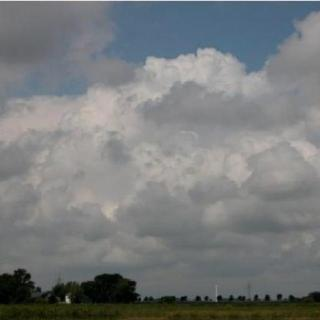Cumulus: (0, 0, 320, 279)
